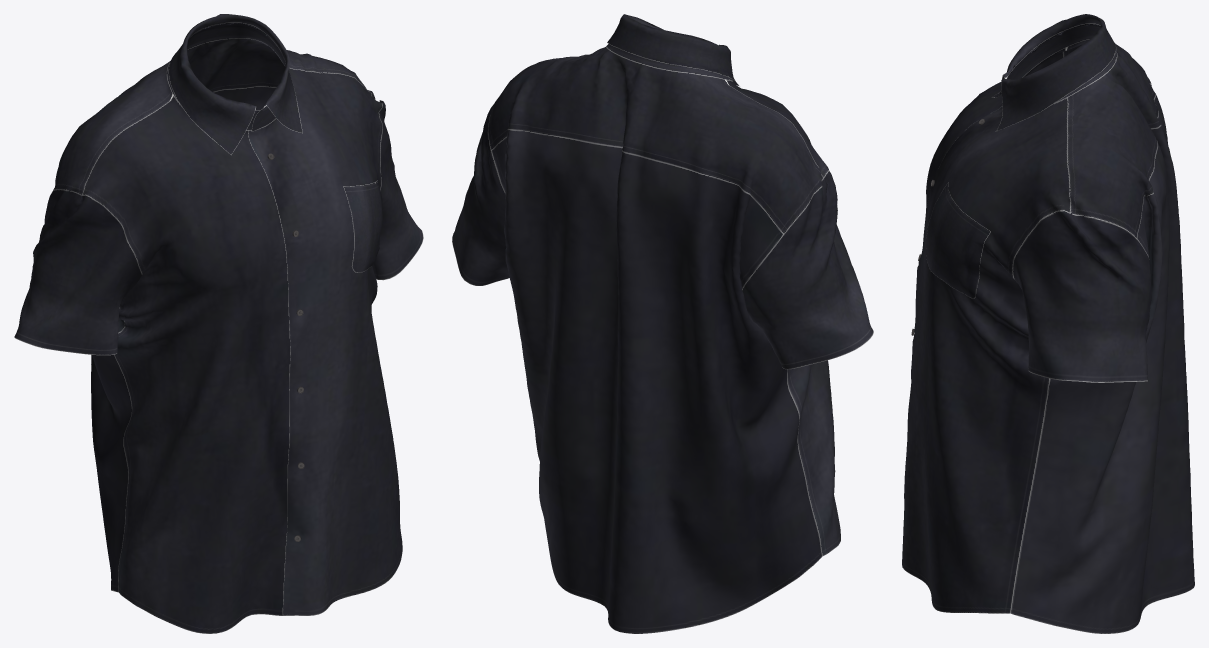
Rendered from Grey half sleeve shirt,mbanana-26.fbx.
3 renders of one model, left to right at view 1: azimuth 30°, elevation 25°; view 2: azimuth 150°, elevation 25°; view 3: azimuth 270°, elevation 25°, orthographic. The views are drawn at different scales.
Parts seen in each view (by area): view 1: Grey half sleeve shirt,mbanana-26; view 2: Grey half sleeve shirt,mbanana-26; view 3: Grey half sleeve shirt,mbanana-26.
Part boxes in pixels (bbox=[...]): Grey half sleeve shirt,mbanana-26: bbox=[14, 14, 423, 633]; Grey half sleeve shirt,mbanana-26: bbox=[452, 14, 873, 633]; Grey half sleeve shirt,mbanana-26: bbox=[902, 14, 1194, 633].
Size of the model in its own units: 27.5 by 36.48 by 16.92.
7 materials, 7 textured.
